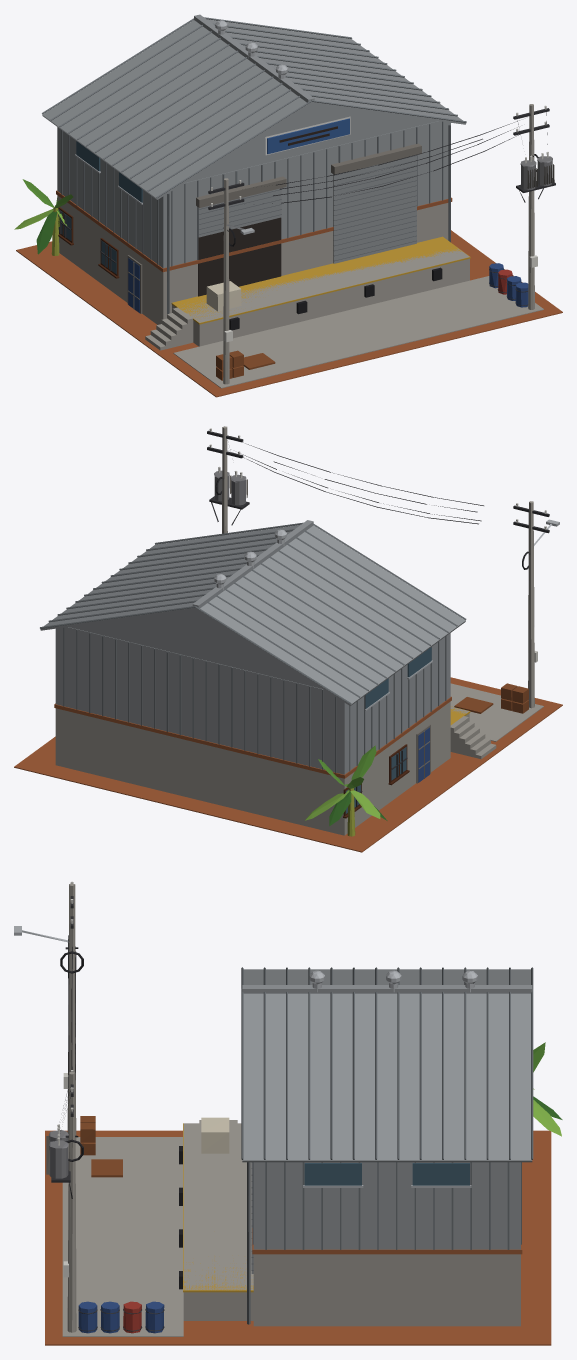
File: factory_2.glb
The picture shows the model from 3 angles, top to bottom: view 1: azimuth 30°, elevation 25°; view 2: azimuth 150°, elevation 25°; view 3: azimuth 270°, elevation 25°; orthographic projection. The views are drawn at different scales.
Visible parts, largest first — view 1: body, windows; view 2: body, windows; view 3: body, windows.
Boxes of the visible parts, bbox=[...] form: body: bbox=[14, 14, 562, 397]; windows: bbox=[58, 141, 281, 296]; body: bbox=[14, 426, 562, 852]; windows: bbox=[345, 647, 431, 813]; body: bbox=[14, 881, 562, 1345]; windows: bbox=[304, 1163, 469, 1185].
Bounding box in the file's own units: 16.37 × 9.26 × 17.24.
